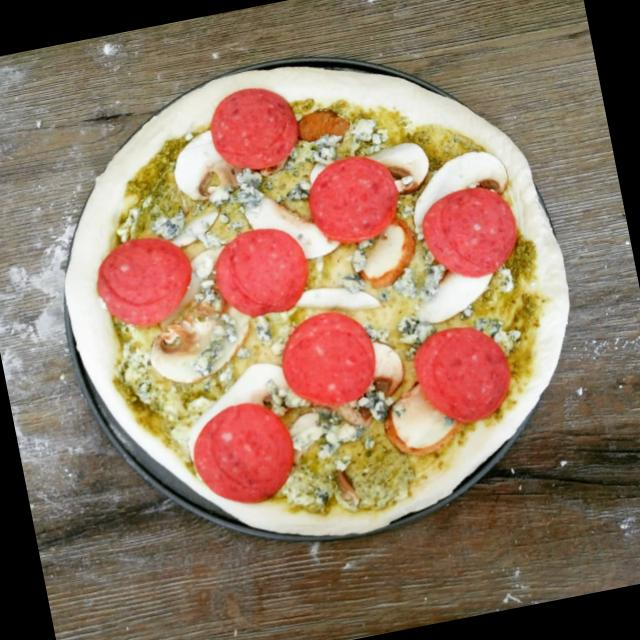mushrooms: (236, 166, 344, 268), (180, 356, 314, 436), (406, 146, 516, 228), (143, 314, 259, 388), (372, 380, 466, 464), (402, 260, 496, 328), (170, 124, 244, 201), (350, 218, 426, 292), (288, 271, 380, 320), (377, 127, 441, 193), (170, 206, 230, 267)
pepperoni: (180, 389, 312, 518), (406, 316, 520, 432), (78, 227, 199, 334), (276, 302, 386, 415), (416, 176, 526, 288), (203, 215, 311, 323), (204, 78, 305, 182), (302, 146, 399, 244)
pizza: (62, 61, 569, 532)
